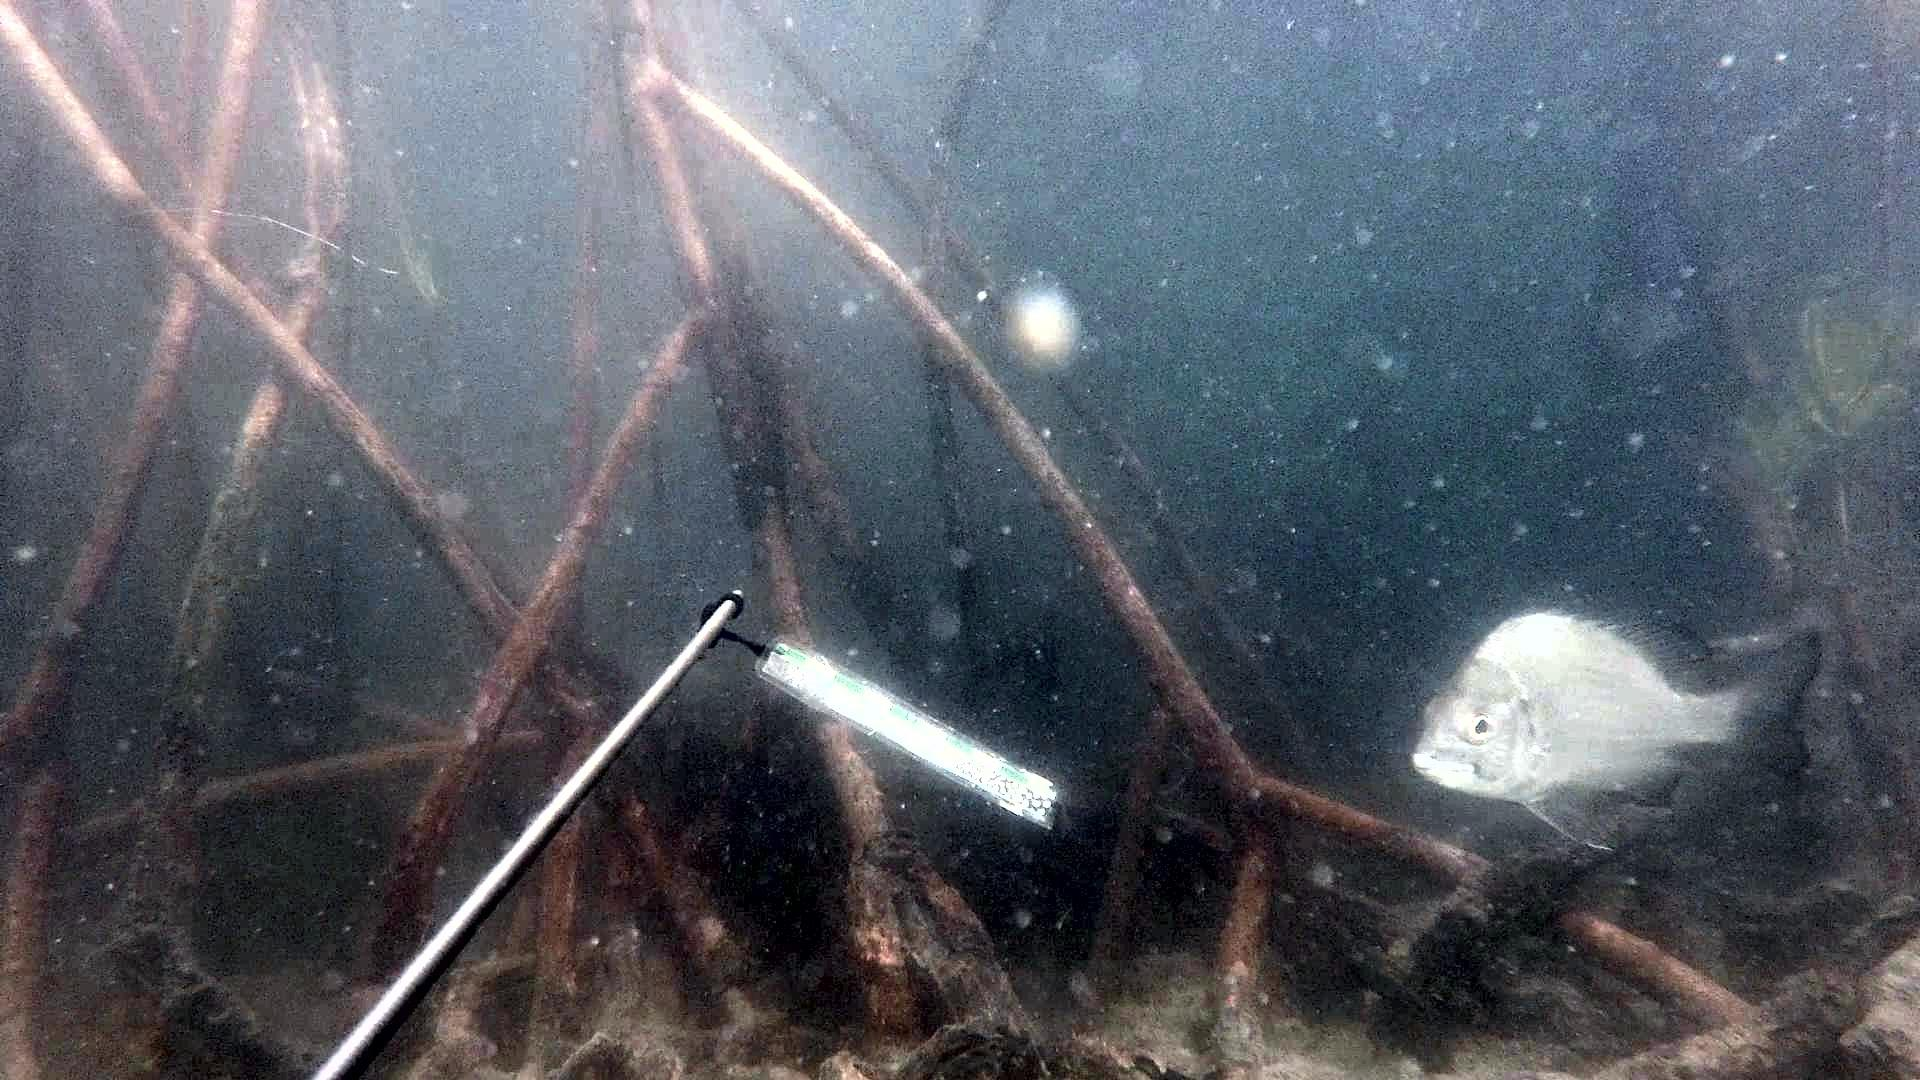acanthopagrus palmaris: (1404, 595, 1829, 859)
